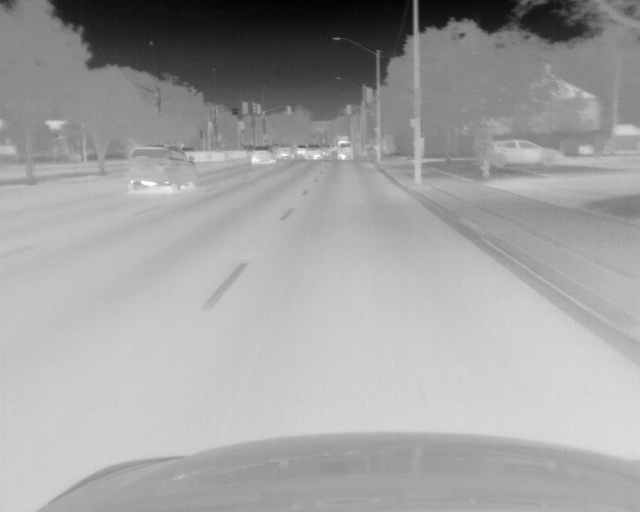car: (128, 144, 201, 194), (485, 137, 564, 169), (250, 146, 277, 166), (338, 140, 353, 162), (276, 144, 294, 160), (306, 144, 322, 162), (294, 144, 305, 157), (321, 146, 333, 157)
